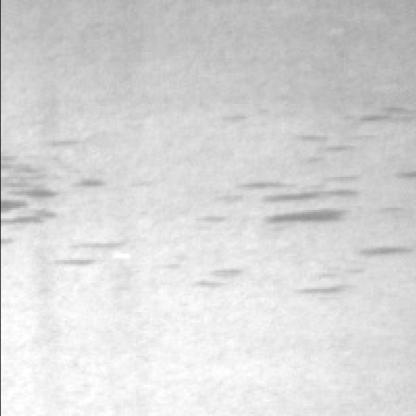inclusion: (2, 146, 110, 245), (237, 164, 368, 244), (187, 252, 258, 300)
